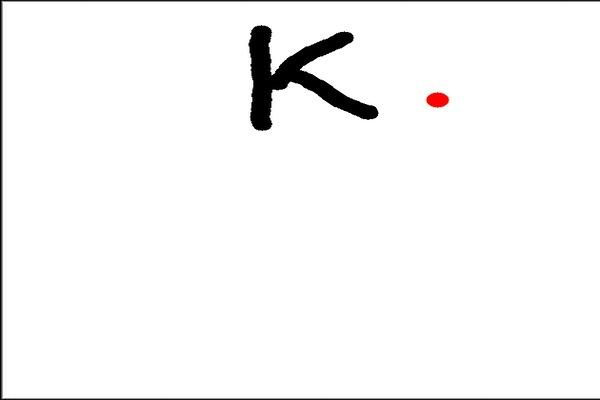K: (242, 16, 387, 136)
